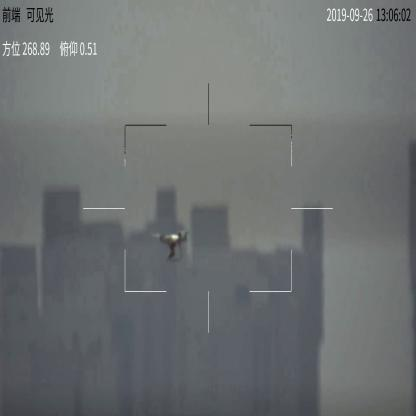uav: (157, 228, 190, 263)
